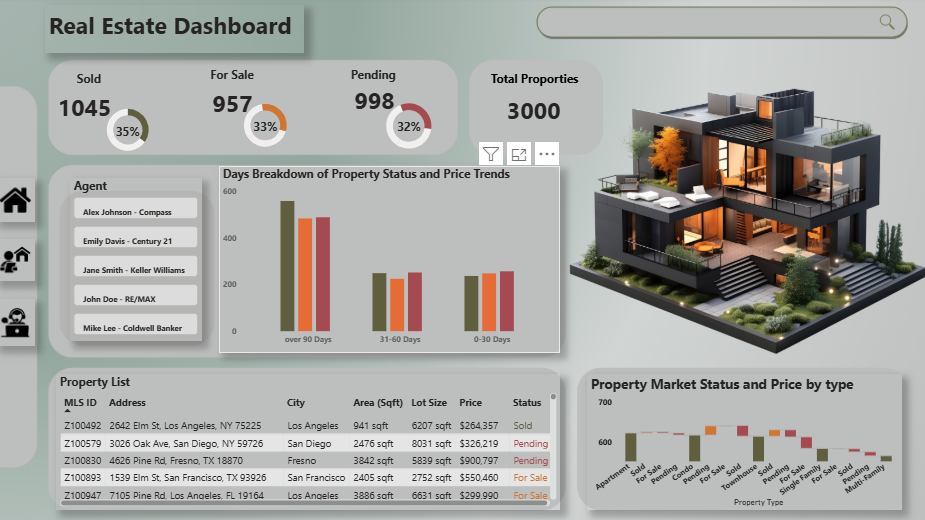

Layout of this report page (visuals, bound fields, positions):
{"tool":"powerbi","page":{"name":"Page 1","canvas":[1280,720],"ordinal":0},"visuals":[{"type":"textbox","box":[67.7,11.5,357.1,66.2],"z":0},{"type":"card","fields":{"Values":["RealEstate_Dataset.Total_Proporities"]},"box":[653.8,115.2,172.8,80.6],"z":1000},{"type":"card","fields":{"Values":["RealEstate_Dataset.Proporties_Sold"]},"box":[41.8,122.4,161.3,57.6],"z":2000},{"type":"card","fields":{"Values":["RealEstate_Dataset.Proporties_for_Sale"]},"box":[243.4,96.5,164.2,100.8],"z":3000},{"type":"card","fields":{"Values":["RealEstate_Dataset.Proporties_Pending"]},"box":[437.8,92.2,167,100.8],"z":4000},{"type":"card","fields":{"Values":["RealEstate_Dataset.%_proporities_Sold"]},"box":[131,151.2,100.8,70.6],"z":5000},{"type":"card","fields":{"Values":["RealEstate_Dataset.%_Proporties_ForSale"]},"box":[509.8,151.2,118.1,57.6],"z":6000},{"type":"card","fields":{"Values":["RealEstate_Dataset.%_Proporties_Pending"]},"box":[316.8,128.2,108,103.7],"z":7000},{"type":"donutChart","fields":{"Category":["RealEstate_Dataset.Status"],"Y":["RealEstate_Dataset.Status"]},"box":[283.7,135.4,174.2,83.5],"z":8000},{"type":"donutChart","fields":{"Category":["RealEstate_Dataset.Status"],"Y":["RealEstate_Dataset.Status"]},"box":[110.9,141.1,139.7,82.1],"z":9000},{"type":"donutChart","fields":{"Category":["RealEstate_Dataset.Status"],"Y":["RealEstate_Dataset.Status"]},"box":[496.8,133.9,142.6,87.8],"z":10000},{"type":"textbox","box":[675.4,96.5,169.9,70.6],"z":11000},{"type":"lineClusteredColumnComboChart","title":"Days Breakdown of Property Status and Price Trends","fields":{"Category":["RealEstate_Dataset.Days_on_market_Category"],"Y":["RealEstate_Dataset.Proporties_Sold","RealEstate_Dataset.Proporties_for_Sale","RealEstate_Dataset.Proporties_Pending"]},"box":[306.7,233.3,469.4,256.3],"z":12000},{"type":"tableEx","title":"Property List","fields":{"Values":["RealEstate_Dataset.MLS ID","RealEstate_Dataset.Address","RealEstate_Dataset.City","RealEstate_Dataset.Area (Sqft)","RealEstate_Dataset.Lot Size","RealEstate_Dataset.Price","RealEstate_Dataset.Status"]},"box":[82.1,518.4,694.1,187.2],"z":13000},{"type":"waterfallChart","title":"Property Market Status and Price by type","fields":{"Category":["RealEstate_Dataset.Property Type"],"Breakdown":["RealEstate_Dataset.Status"],"Y":["RealEstate_Dataset.Status"]},"box":[813.6,518.4,433.4,187.2],"z":14000},{"type":"advancedSlicerVisual","title":"Agent","fields":{"Values":["RealEstate_Dataset.Listing Agent"]},"box":[102.2,249.1,181.4,224.6],"z":15000},{"type":"textbox","box":[41.8,96.5,172.8,36],"z":16000},{"type":"textbox","box":[250.6,90.7,148.3,38.9],"z":17000},{"type":"textbox","box":[433.4,90.7,171.4,56.2],"z":18000},{"type":"image","box":[0,416.2,53.3,64.8],"z":19000},{"type":"image","box":[0,332.6,53.3,57.6],"z":20000},{"type":"image","box":[0,249.1,53.3,60.5],"z":21000}]}

Visuals, with their boxes in screenshot pixels (x1, y1, x2, y2), scaled from the page's 1280x720 canvas onto the 925x520 screenshot:
textbox: 49/8/307/56
card - RealEstate_Dataset.Total_Proporities: 472/83/597/141
card - RealEstate_Dataset.Proporties_Sold: 30/88/147/130
card - RealEstate_Dataset.Proporties_for_Sale: 176/70/295/142
card - RealEstate_Dataset.Proporties_Pending: 316/67/437/139
card - RealEstate_Dataset.%_proporities_Sold: 95/109/168/160
card - RealEstate_Dataset.%_Proporties_ForSale: 368/109/454/151
card - RealEstate_Dataset.%_Proporties_Pending: 229/93/307/167
donutChart - RealEstate_Dataset.Status x RealEstate_Dataset.Status: 205/98/331/158
donutChart - RealEstate_Dataset.Status x RealEstate_Dataset.Status: 80/102/181/161
donutChart - RealEstate_Dataset.Status x RealEstate_Dataset.Status: 359/97/462/160
textbox: 488/70/611/121
"Days Breakdown of Property Status and Price Trends" lineClusteredColumnComboChart: 222/168/561/354
"Property List" tableEx: 59/374/561/510
"Property Market Status and Price by type" waterfallChart: 588/374/901/510
"Agent" advancedSlicerVisual: 74/180/205/342
textbox: 30/70/155/96
textbox: 181/66/288/94
textbox: 313/66/437/106
image: 0/301/39/347
image: 0/240/39/282
image: 0/180/39/224
